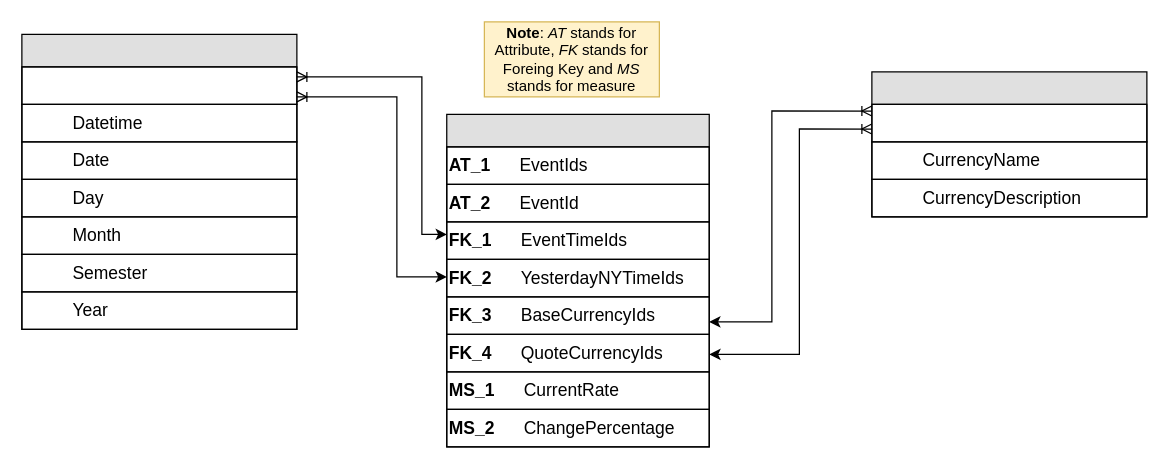
This 1169x469 diagram has some shape labels left out. Each missing label, with the box of its shape:
F_FX_EXCHANGE_RATE: (446, 113, 709, 447)
L_FX_CURRENCY: (871, 71, 1147, 217)
L_FX_DATETIME: (21, 33, 297, 329)
PK CurrencyIds: (871, 103, 1147, 142)
PK DatetimeIds: (21, 66, 297, 104)
